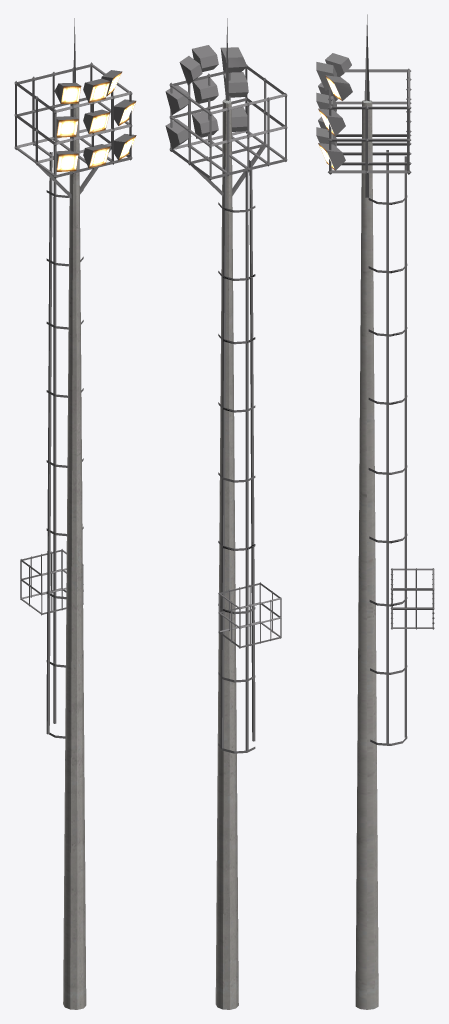
File: POSTELUZ_CARGO_GEN_tall.gltf
The picture shows the model from 3 angles, left to right: view 1: azimuth 30°, elevation 25°; view 2: azimuth 210°, elevation 25°; view 3: azimuth 270°, elevation 25°; orthographic projection.
Parts seen in each view (by area): view 1: node1; view 2: node1; view 3: node1.
Boxes of the visible parts, box(x1,y1,x2,y2) form: node1: box(14, 18, 136, 1009); node1: box(165, 18, 287, 1009); node1: box(316, 14, 434, 1009).
Bounding box in the file's own units: 2.41 × 28.16 × 3.05.
